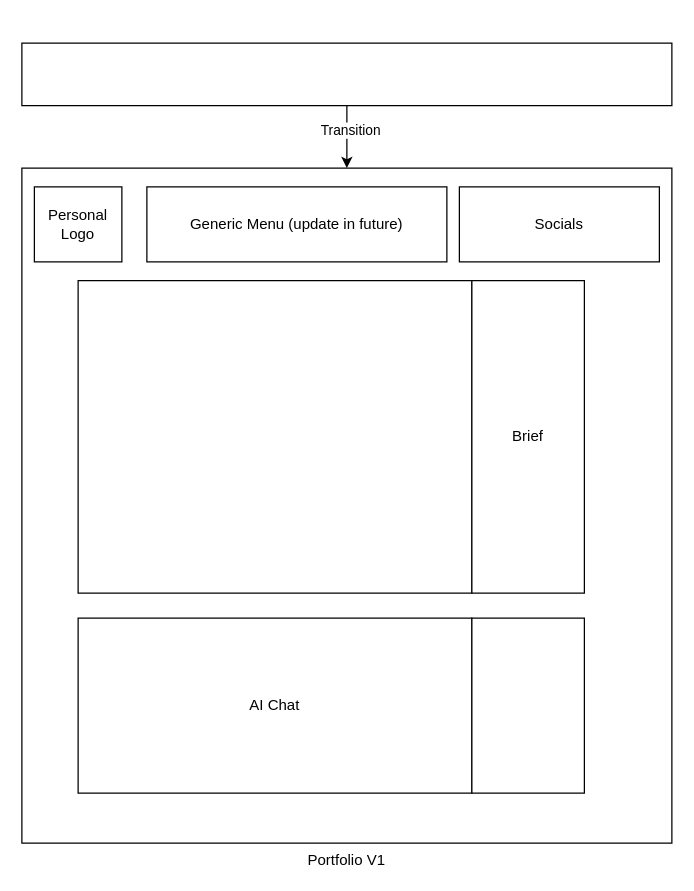
Image size: 694x891. Some labels were removed from this diagram. Here are the shapes that lost their labels. From the top down, the centre of each, then its label:
point 346,74: Splash Page
point 274,436: Portrait Photo
point 527,705: Comments
